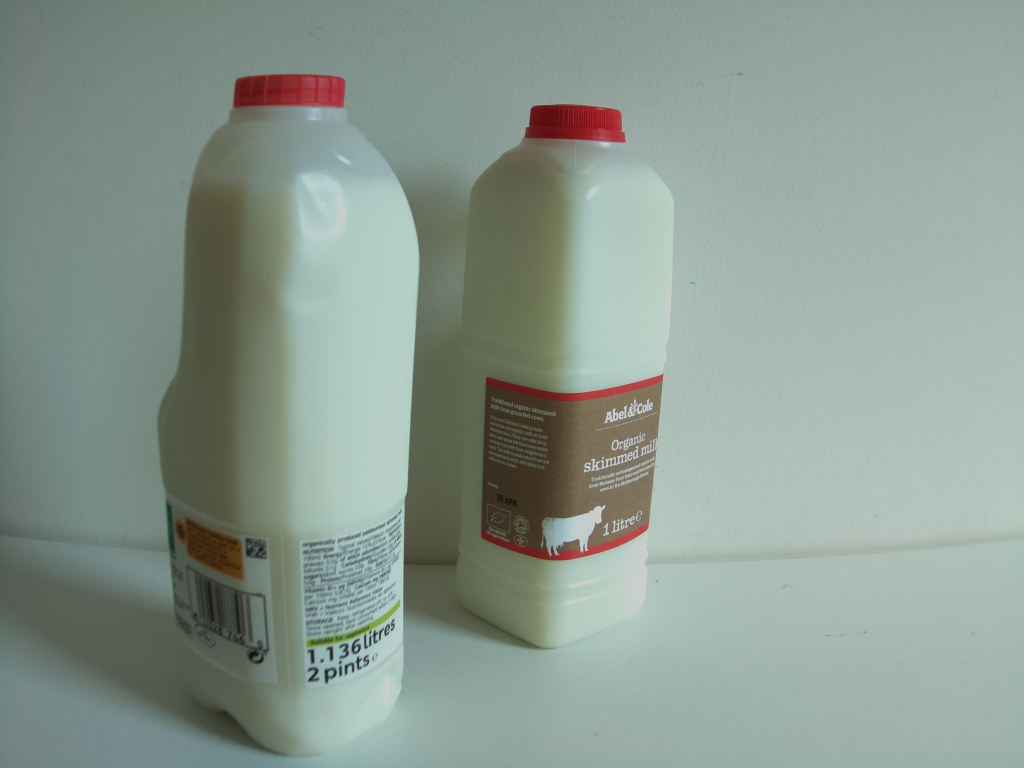milk: (152, 63, 415, 763), (452, 98, 684, 654)
